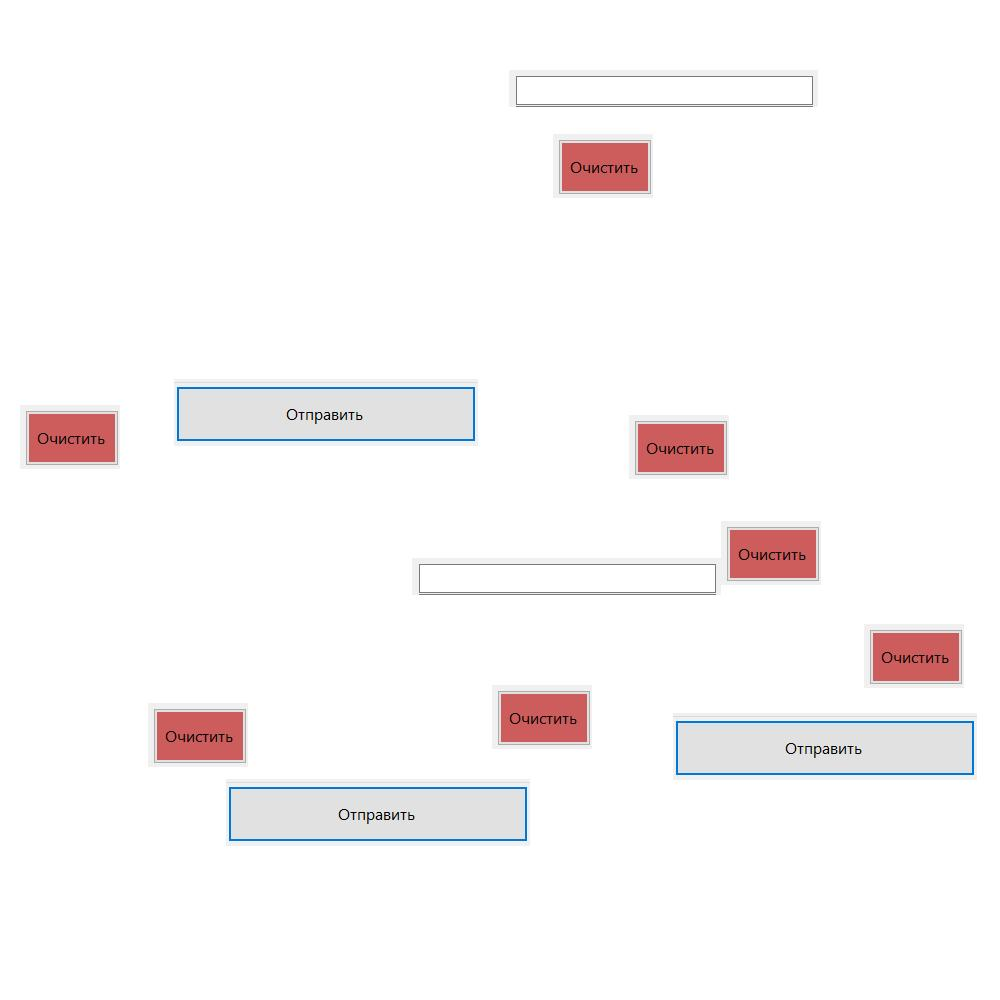Button: (226, 779, 530, 846), (673, 713, 977, 780), (174, 379, 478, 446), (721, 521, 821, 585), (864, 624, 964, 688), (629, 415, 729, 479), (20, 405, 120, 469), (148, 703, 248, 767), (553, 134, 653, 198), (492, 685, 592, 749)
EditText-: (509, 70, 818, 107), (412, 558, 721, 595)
